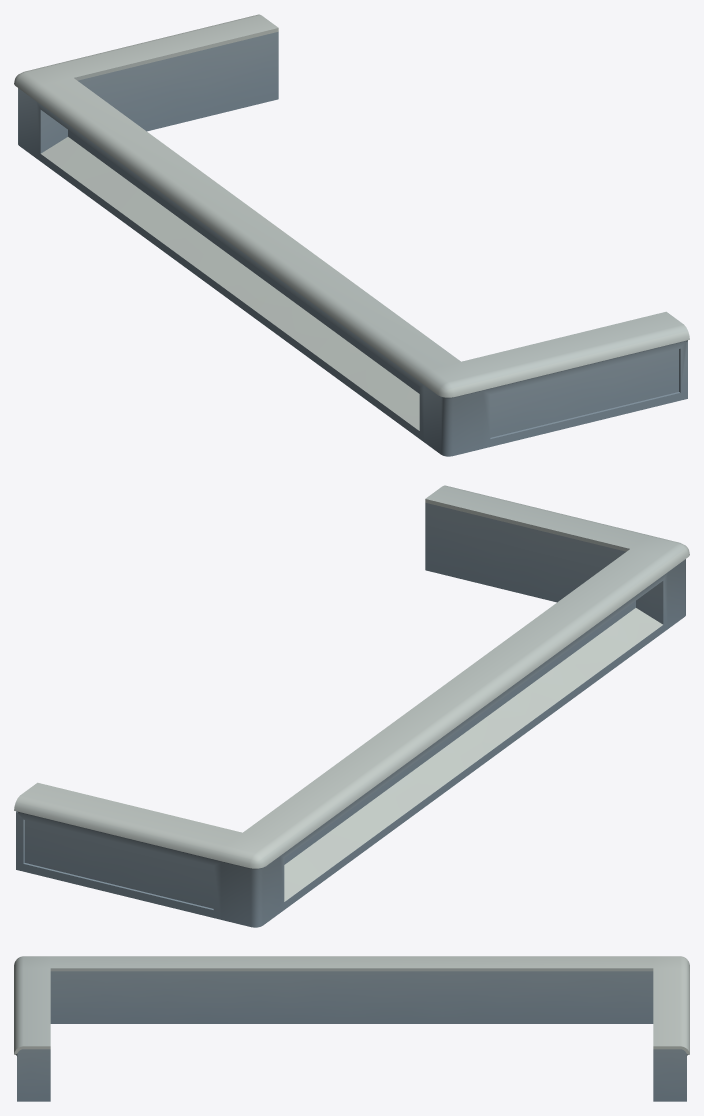
The model's file is Shop Counter.glb.
3 views of the same model, one above another, from view 1: azimuth 30°, elevation 25°; view 2: azimuth 150°, elevation 25°; view 3: azimuth 270°, elevation 25° (orthographic). The views are drawn at different scales.
Parts seen in each view (by area): view 1: Shop Counter; view 2: Shop Counter; view 3: Shop Counter.
Boxes of the visible parts, left/top/right/bottom form: Shop Counter: left=14, top=14, right=689, bottom=456; Shop Counter: left=14, top=485, right=689, bottom=927; Shop Counter: left=14, top=956, right=689, bottom=1101.
Size of what is drawn, in the model's own units: 4.95 by 1.37 by 15.14.
1 material, 1 textured.
